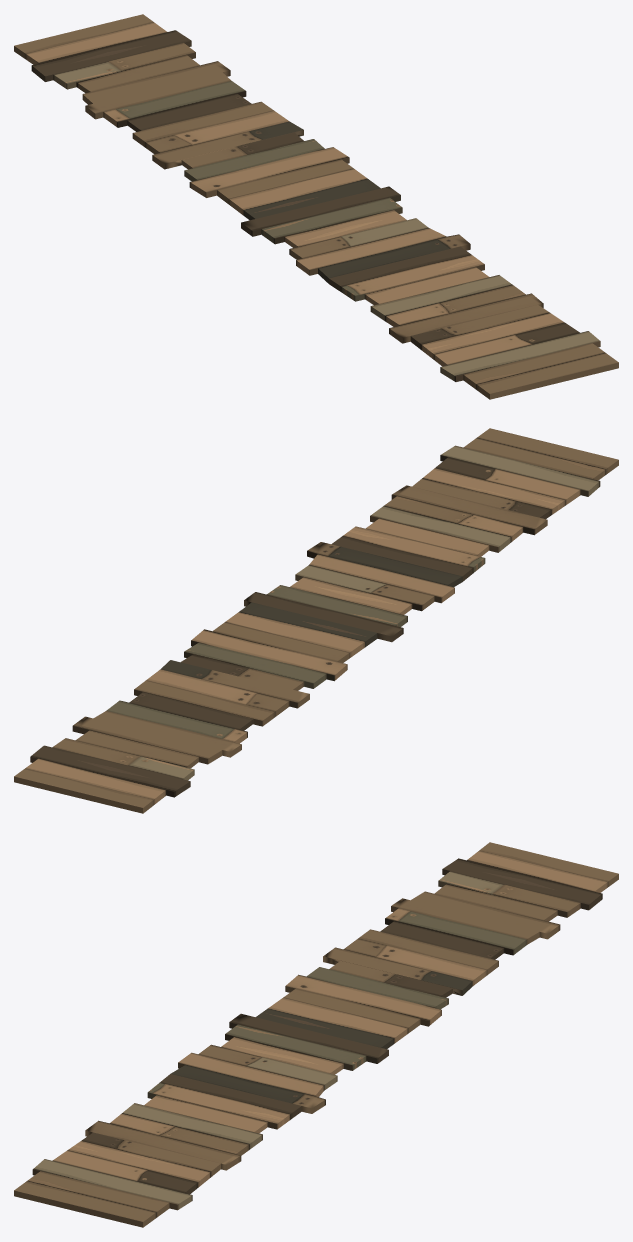
The model's file is SM_Bld_Dock_Long_03.fbx.
3 renders of one model, top to bottom at view 1: azimuth 30°, elevation 25°; view 2: azimuth 150°, elevation 25°; view 3: azimuth 330°, elevation 25°, orthographic.
Visible parts, largest first — view 1: SM_Bld_Dock_Long_03; view 2: SM_Bld_Dock_Long_03; view 3: SM_Bld_Dock_Long_03.
Part boxes in pixels (x1,y1,x2,y2): SM_Bld_Dock_Long_03: (14, 14, 618, 399); SM_Bld_Dock_Long_03: (14, 428, 618, 813); SM_Bld_Dock_Long_03: (14, 842, 618, 1227).
Bounding box in the file's own units: 275 × 9.97 × 1496.
